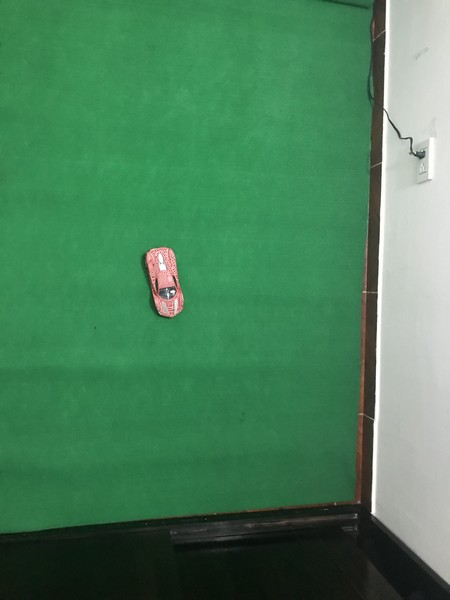RC: (141, 246, 187, 321)
